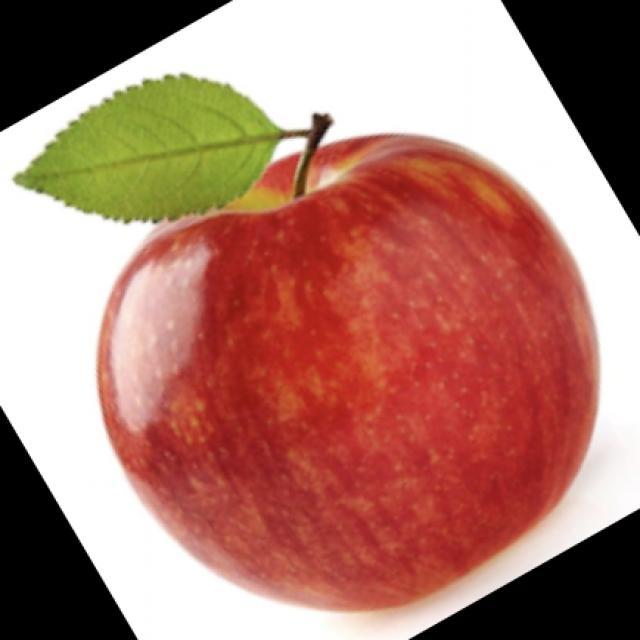Fresh Apple: (82, 126, 598, 612)
